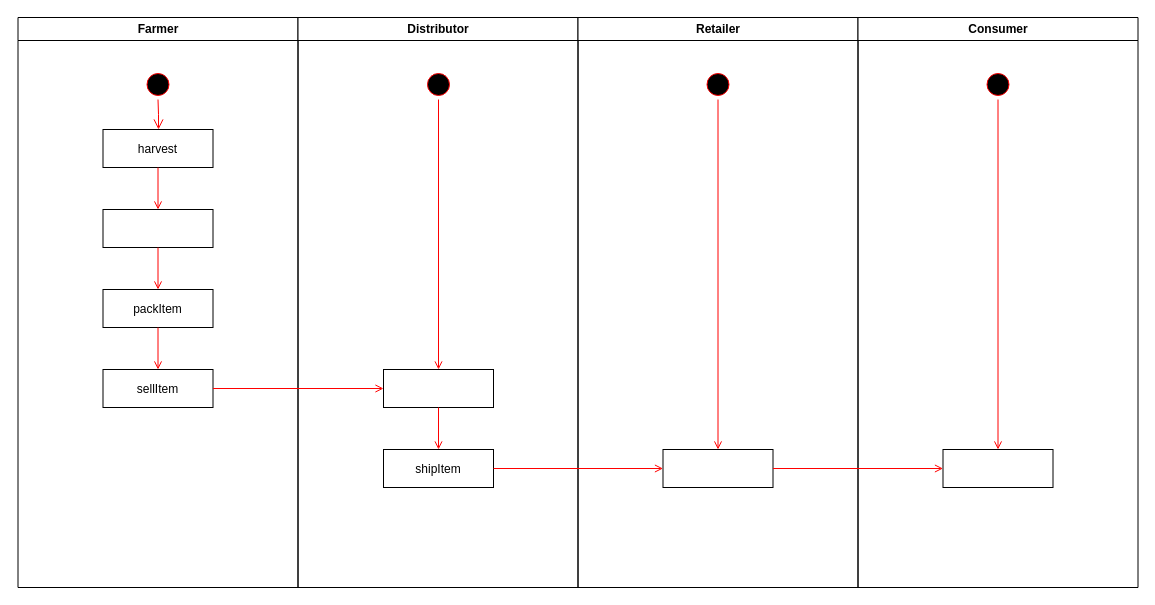
This 1155x605 diagram has some shape labels left out. Here are the shapes that lost their labels. From the top down, the centre of each, then its label:
point (157, 228): processItem
point (438, 388): buyItem
point (717, 468): receiveItem
point (997, 468): purchaseItem
